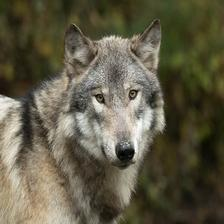WOLF: (0, 21, 164, 224)
